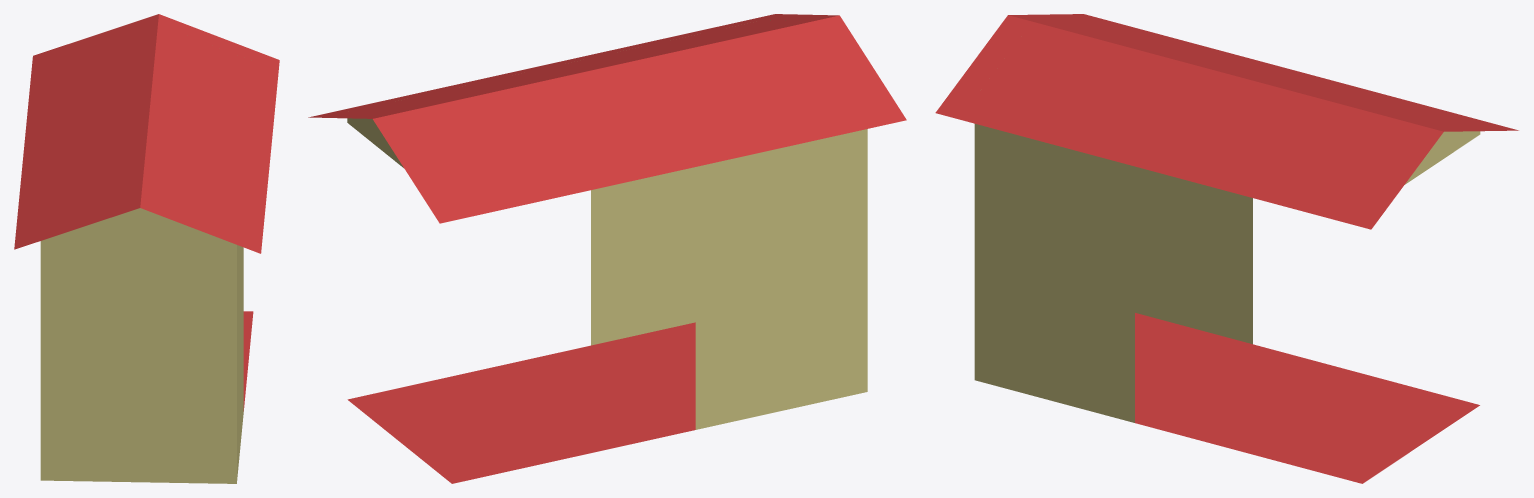
3 views of the same model, side by side, from view 1: azimuth 30°, elevation 25°; view 2: azimuth 150°, elevation 25°; view 3: azimuth 270°, elevation 25° (orthographic). The views are drawn at different scales.
Size of the model in its own units: 8.97 by 10.27 by 6.21.
